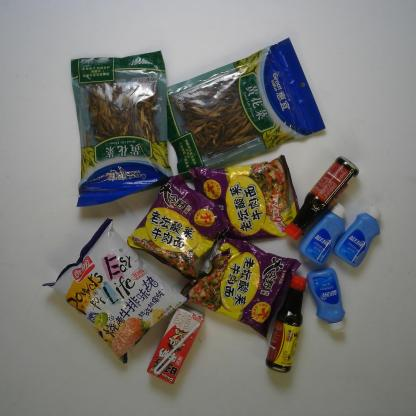Dried Food: (147, 35, 328, 181), (66, 50, 172, 209)
Instant Noodles: (176, 232, 302, 340), (126, 175, 238, 280), (186, 148, 303, 244)
Milk: (146, 303, 206, 386)
Personal Hygiene: (296, 199, 350, 265), (333, 204, 384, 269), (305, 264, 347, 335)
Puffed Food: (40, 215, 190, 365)
Seasoner: (285, 152, 361, 240), (266, 274, 309, 375)
